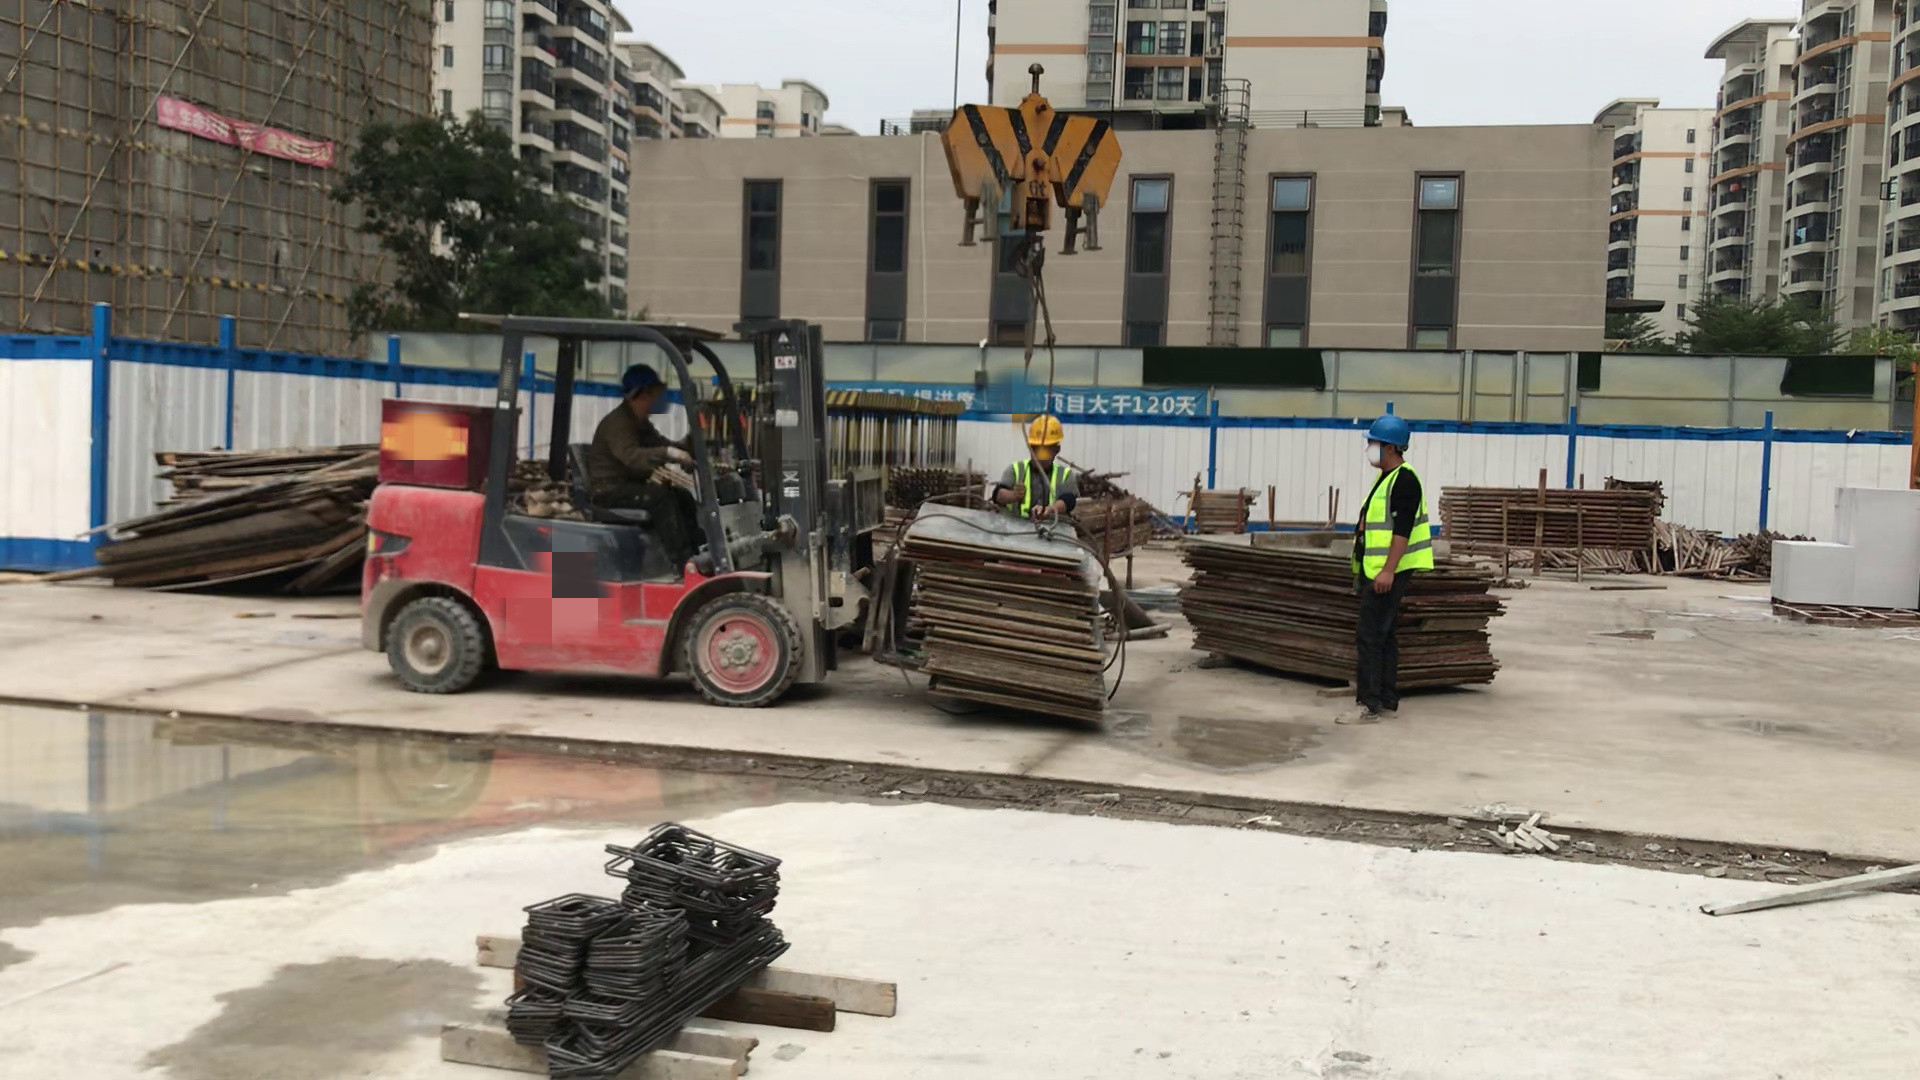board: (1175, 533, 1494, 683), (908, 497, 1104, 726)
brick: (1770, 493, 1919, 620)
helmet: (1364, 415, 1409, 448), (622, 365, 666, 393), (1028, 413, 1064, 446)
hook: (938, 62, 1123, 277)
person: (1352, 416, 1433, 730), (588, 365, 709, 574), (993, 418, 1075, 523)
slogan: (935, 385, 1201, 427)
vest: (1355, 464, 1435, 577)
